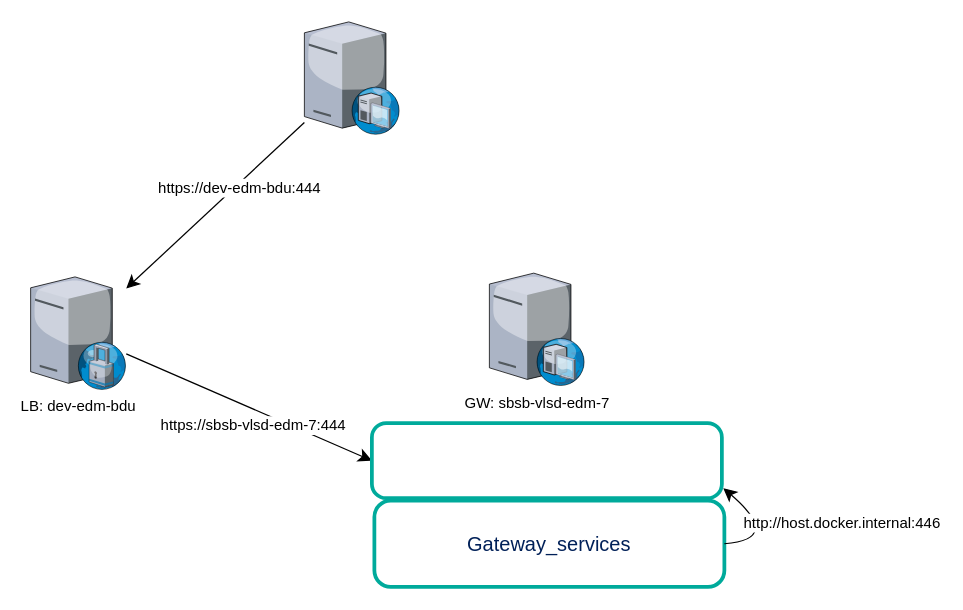
The diagram is 963 pixels wide and 610 high, and some of its shapes have lost their labels. Here are the shapes that lost their labels. From the top down, the centre of each, then its label:
At (x=351, y=77): "Wildfly".
At (x=546, y=460): "Proxy".
